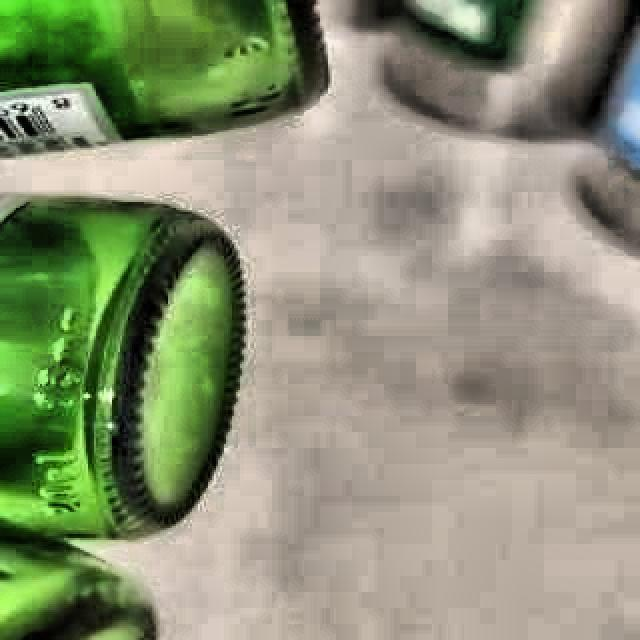glass: (0, 193, 243, 640)
